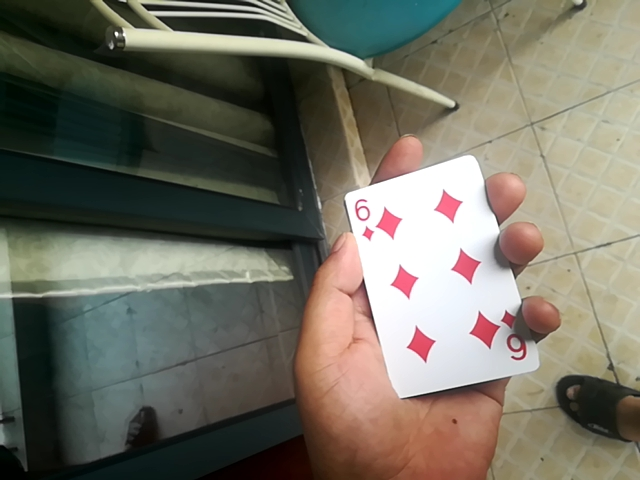fk 6: (358, 139, 531, 404)
